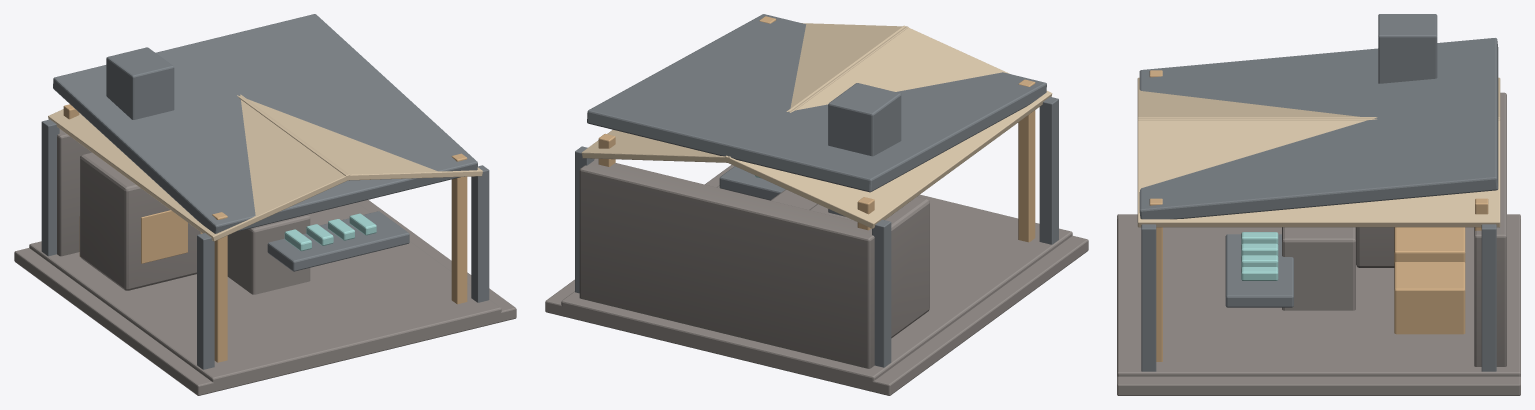
The model's file is emberglass-arrival-v1.glb.
3 renders of one model, left to right at view 1: azimuth 30°, elevation 25°; view 2: azimuth 150°, elevation 25°; view 3: azimuth 270°, elevation 25°, orthographic. The views are drawn at different scales.
Parts seen in each view (by area): view 1: GB_EMBERGLASS_SMITHY_Geometry, GB_EMBERGLASS_SHELTER_Geometry, GB_EMBERGLASS_BASALT_Geometry; view 2: GB_EMBERGLASS_SMITHY_Geometry, GB_EMBERGLASS_SHELTER_Geometry, GB_EMBERGLASS_BASALT_Geometry; view 3: GB_EMBERGLASS_SMITHY_Geometry, GB_EMBERGLASS_SHELTER_Geometry, GB_EMBERGLASS_BASALT_Geometry.
Boxes of the visible parts, x1=… form: GB_EMBERGLASS_SMITHY_Geometry: x1=29, y1=14, x2=501, y2=383; GB_EMBERGLASS_SHELTER_Geometry: x1=14, y1=94, x2=516, y2=395; GB_EMBERGLASS_BASALT_Geometry: x1=227, y1=214, x2=310, y2=294; GB_EMBERGLASS_SMITHY_Geometry: x1=561, y1=14, x2=1072, y2=383; GB_EMBERGLASS_SHELTER_Geometry: x1=545, y1=23, x2=1088, y2=395; GB_EMBERGLASS_BASALT_Geometry: x1=771, y1=189, x2=816, y2=209; GB_EMBERGLASS_SMITHY_Geometry: x1=1117, y1=14, x2=1520, y2=376; GB_EMBERGLASS_SHELTER_Geometry: x1=1117, y1=77, x2=1520, y2=395; GB_EMBERGLASS_BASALT_Geometry: x1=1282, y1=227, x2=1355, y2=310.
Bounding box in the file's own units: 5.46 × 3.6 × 5.46.
